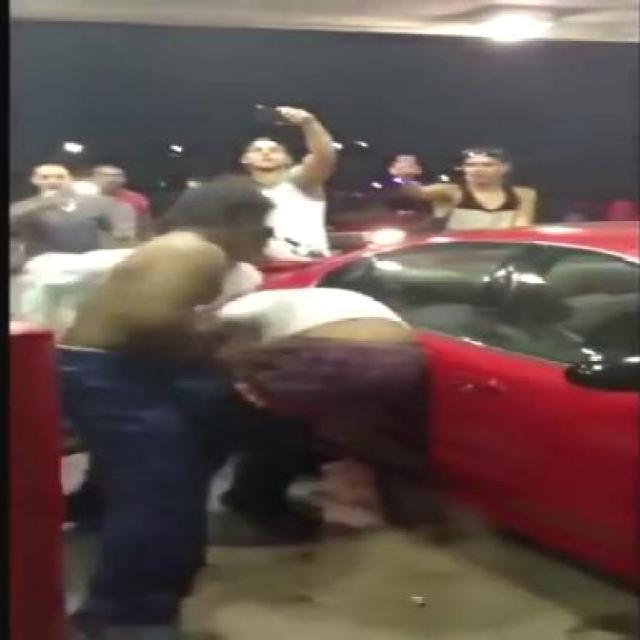fight: (48, 182, 430, 466)
